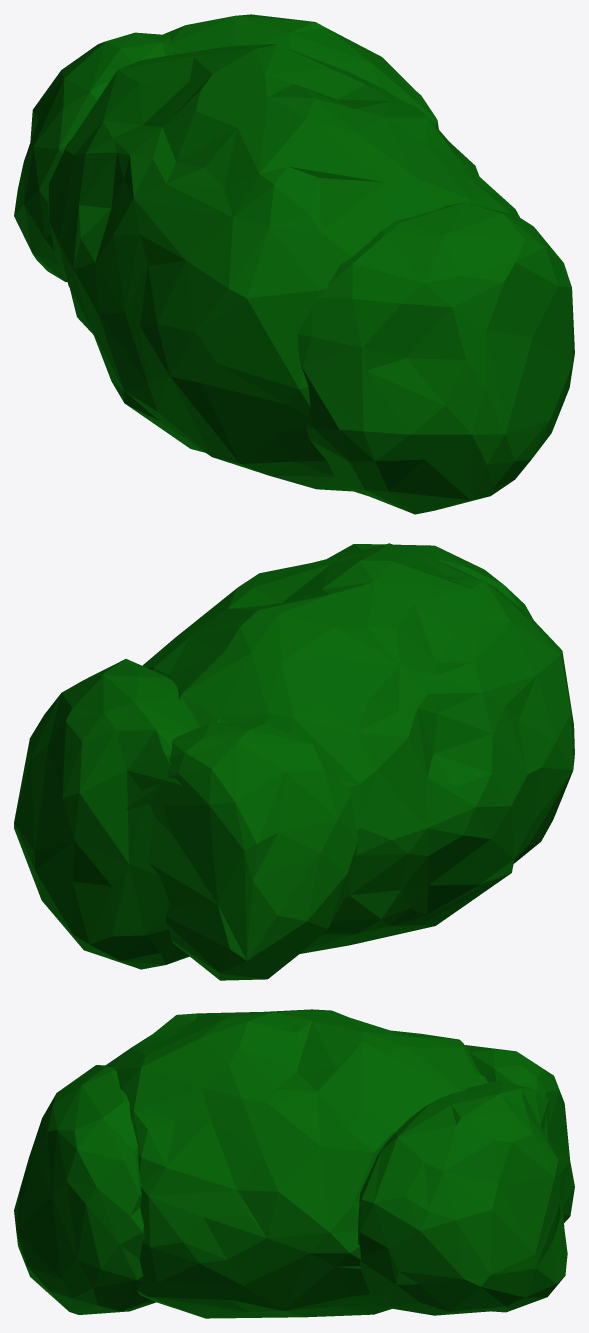
File: Bush.fbx
The picture shows the model from 3 angles, top to bottom: view 1: azimuth 30°, elevation 25°; view 2: azimuth 150°, elevation 25°; view 3: azimuth 270°, elevation 25°; orthographic projection. The views are drawn at different scales.
Parts seen in each view (by area): view 1: bushes; view 2: bushes; view 3: bushes.
Part boxes in pixels (<box>): bushes: <box>14,14,574,514</box>; bushes: <box>14,543,574,980</box>; bushes: <box>14,1009,574,1318</box>.
Size of the model in its own units: 71.84 by 41 by 48.96.
